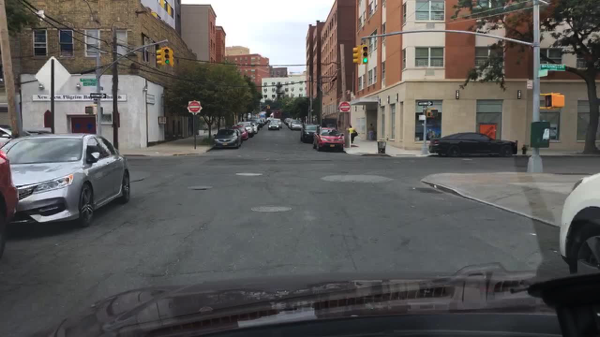car: (0, 133, 131, 235), (557, 174, 598, 277), (430, 131, 519, 159), (0, 154, 19, 264), (312, 127, 345, 154), (0, 126, 31, 148), (213, 129, 241, 151), (298, 123, 318, 145), (231, 125, 250, 144), (239, 121, 255, 139), (289, 120, 303, 132), (249, 120, 259, 135), (267, 120, 279, 131), (250, 118, 262, 129), (286, 119, 294, 129), (275, 118, 282, 129), (259, 117, 266, 128), (282, 117, 291, 125), (259, 117, 267, 125), (266, 116, 272, 122)
person: (348, 124, 358, 146), (367, 121, 375, 142)
traffic light: (544, 91, 565, 110), (351, 45, 359, 66), (154, 46, 162, 66), (360, 44, 368, 63), (163, 45, 170, 66), (170, 49, 175, 68), (265, 104, 272, 110)
traffic sign: (35, 54, 72, 96), (187, 101, 204, 116), (540, 64, 566, 73), (80, 78, 97, 87), (339, 100, 350, 113), (89, 91, 106, 99), (146, 94, 155, 106), (418, 100, 433, 107), (536, 69, 549, 77), (524, 80, 533, 88), (418, 113, 425, 121), (141, 86, 147, 94)
